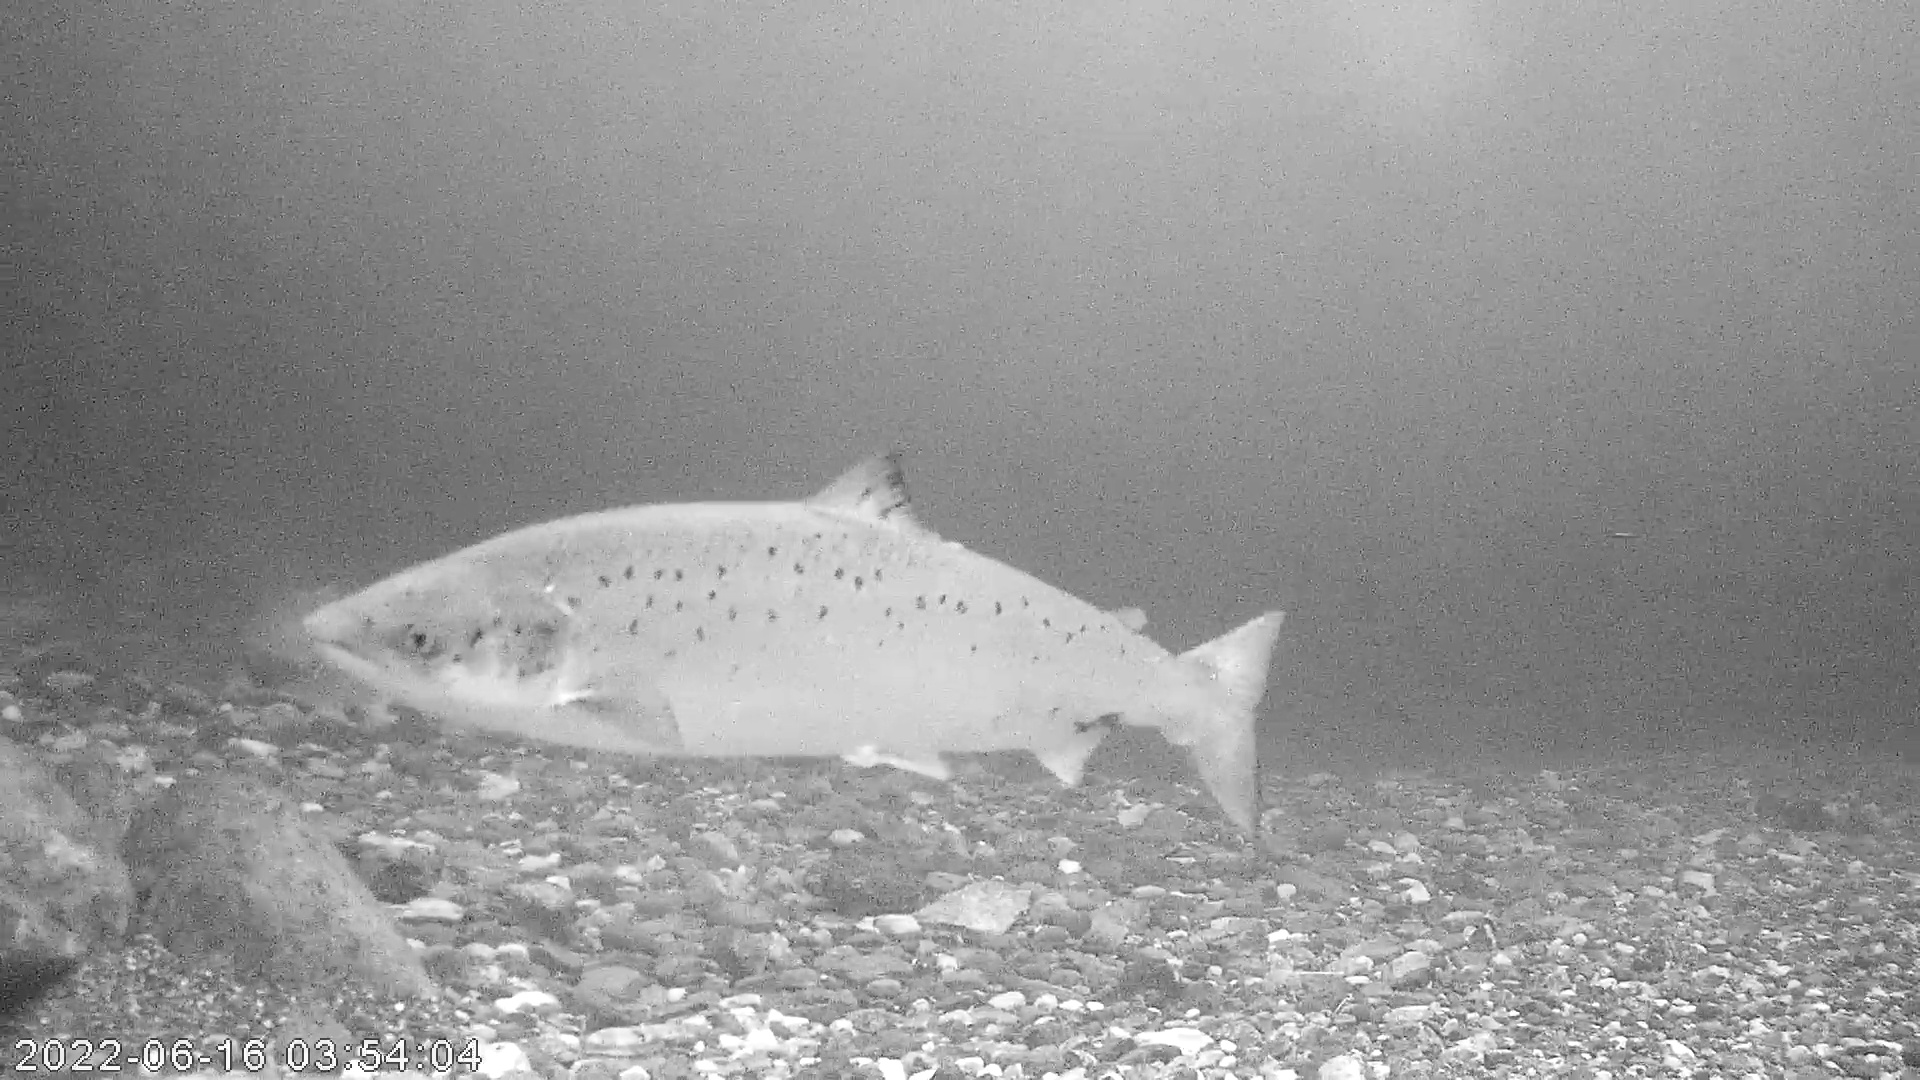salmon: (299, 444, 1288, 845)
